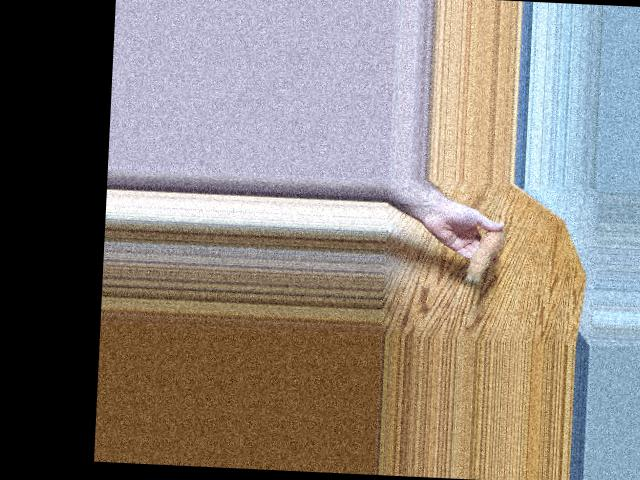sweet_potato: (462, 223, 505, 284)
